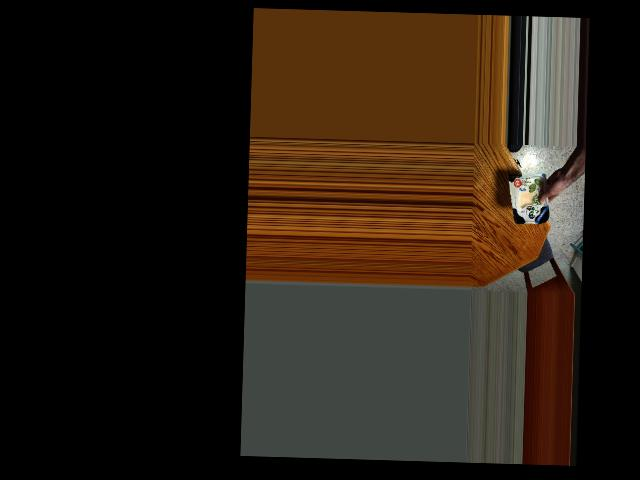cheese: (507, 167, 553, 231)
